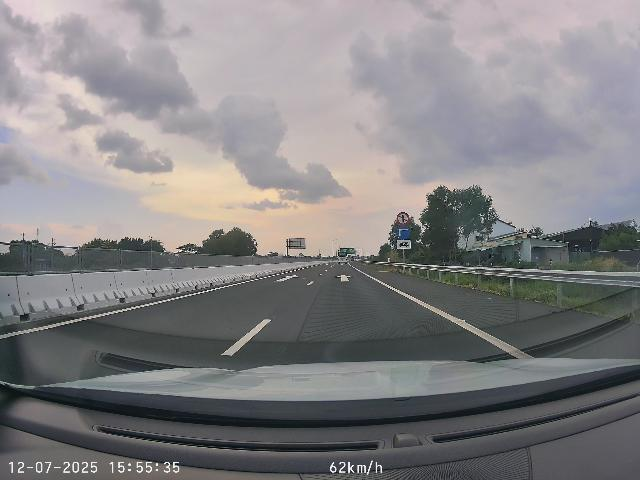136-cam-di-thang: (396, 212, 410, 225)
301d-cac-xe-chi-duoc-re-phai-2: (396, 226, 410, 239)
